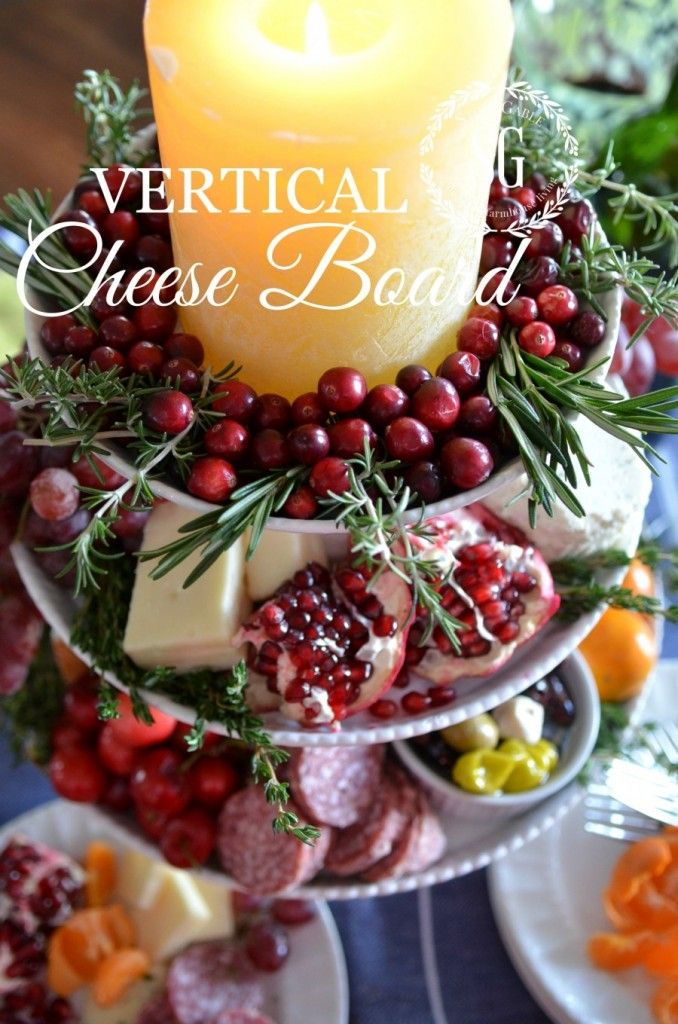cheese: (89, 475, 251, 673), (55, 841, 257, 974)
